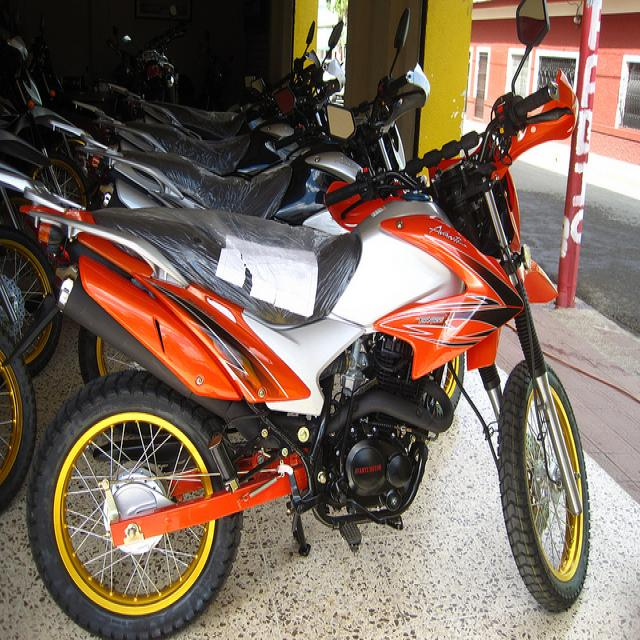motor: (41, 10, 587, 619), (77, 70, 428, 385), (1, 152, 411, 314), (83, 61, 341, 165), (130, 20, 316, 145), (1, 25, 89, 205), (1, 222, 59, 375), (0, 331, 39, 514), (124, 6, 186, 106)
